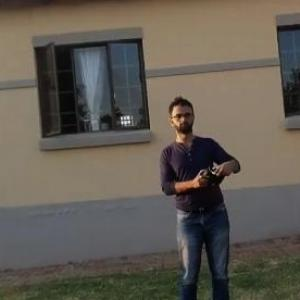follow: (152, 86, 248, 299)
